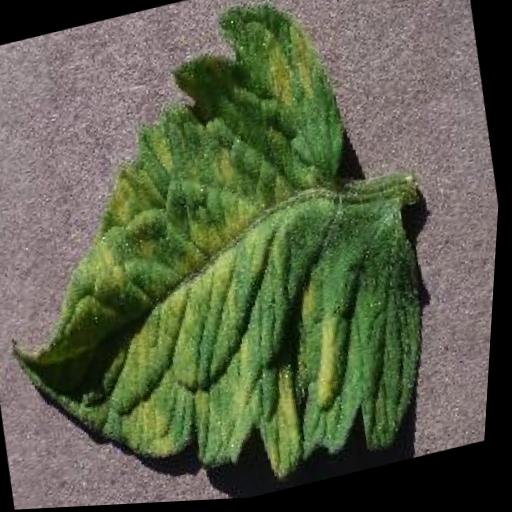Leaf Mold: (0, 0, 473, 512)
